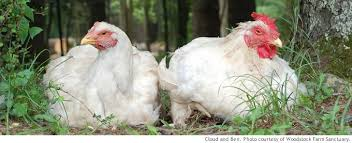chicken: (162, 8, 314, 125), (38, 18, 160, 136)
